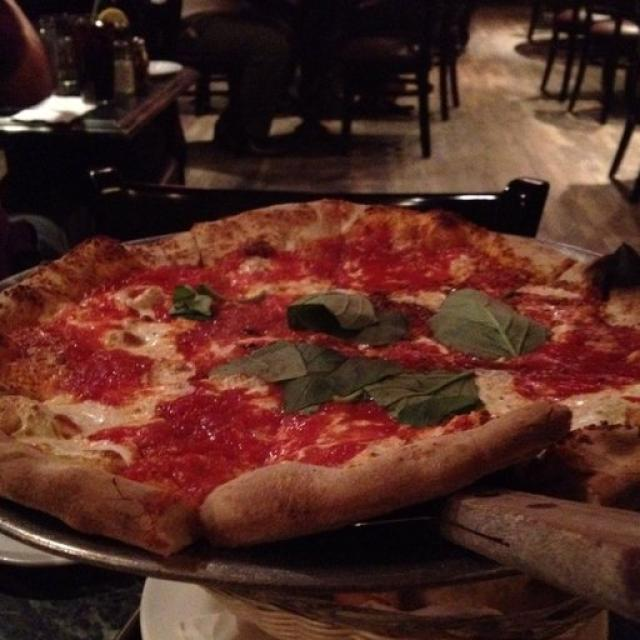Basil: (213, 345, 349, 404), (430, 286, 546, 351), (292, 290, 408, 340), (379, 359, 470, 421), (168, 281, 217, 323), (289, 373, 339, 406)
Cheese: (114, 315, 198, 394), (64, 396, 140, 449), (116, 281, 169, 314)
Pizza: (0, 200, 640, 560)
